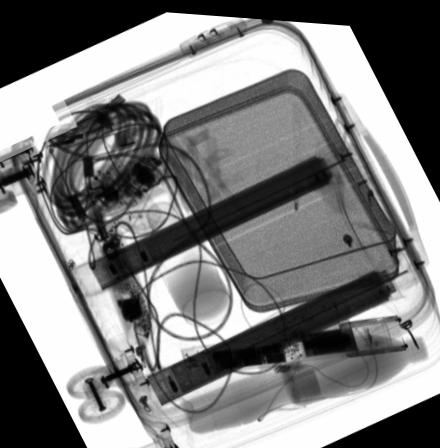Baton: (180, 309, 407, 373)
